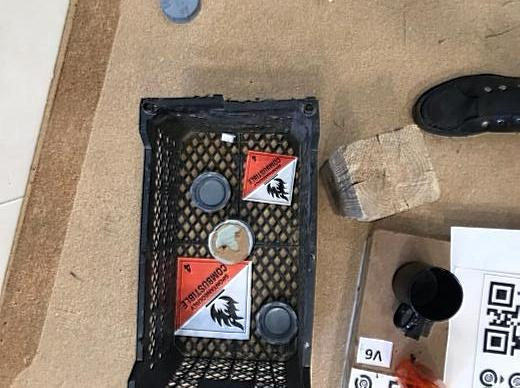spontaneously-combustible: (175, 261, 251, 338), (241, 149, 297, 207)
